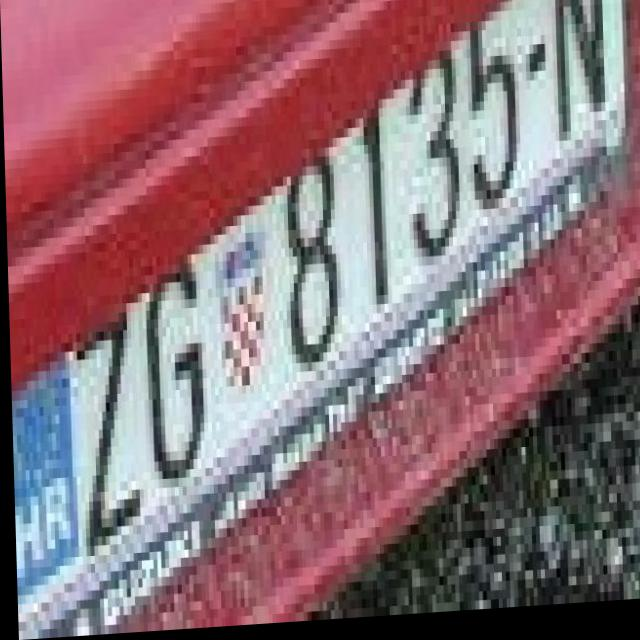1: (346, 77, 391, 328)
3: (403, 21, 456, 263)
5: (449, 0, 521, 225)
8: (281, 143, 341, 376)
G: (139, 248, 207, 482)
N: (550, 0, 609, 158)
Z: (62, 304, 138, 557)
